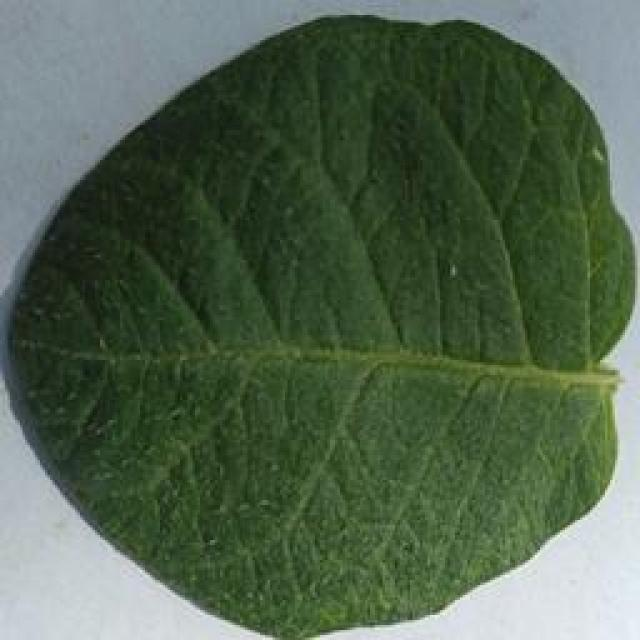Potato_Healthy: (3, 1, 635, 632)
